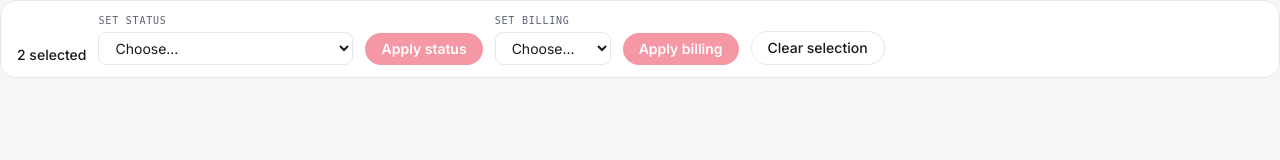
Test: BulkActionsBar › applies billing to each selected case and names the ones that failed
The image size is (1280, 160).
Select "Billed" in the dropdown named "Bulk billing status": [553, 48] box left=495, top=32, right=611, bottom=65
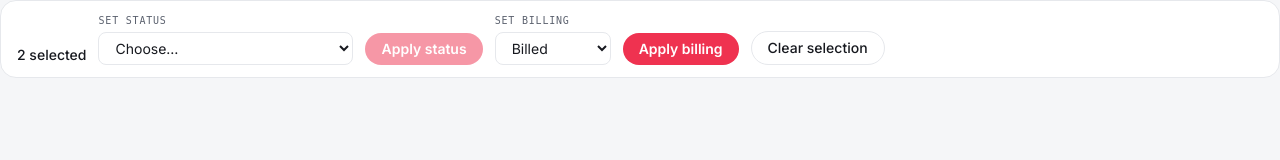
Click the button "Apply billing": [681, 49] box left=623, top=33, right=738, bottom=65
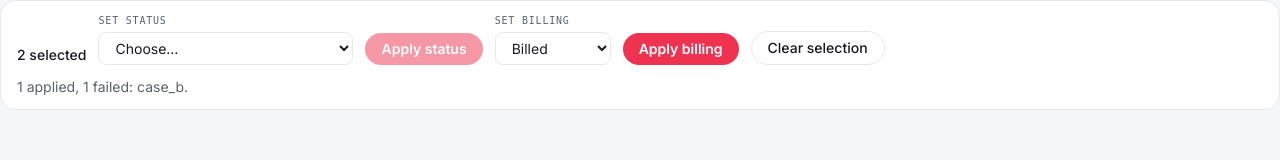
Result: the message shows "1 applied, 1 failed: case_b" at left=17, top=78, right=188, bottom=95
